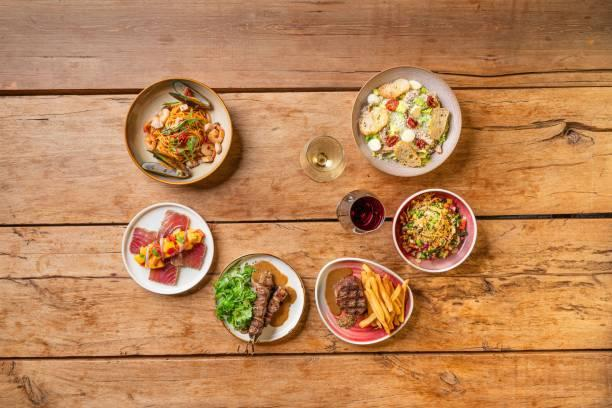Braised Crucian Carp: (350, 65, 462, 176), (124, 78, 231, 185), (314, 257, 413, 345), (121, 202, 213, 295), (214, 252, 305, 344), (392, 188, 477, 272)
